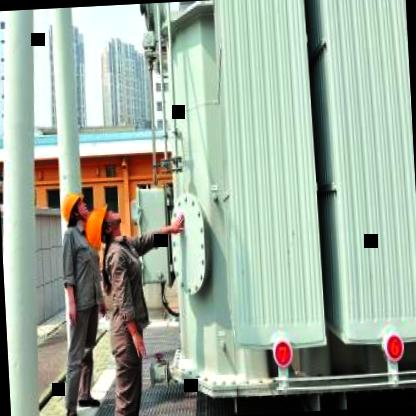helmet: (84, 202, 122, 250), (60, 186, 90, 235)
